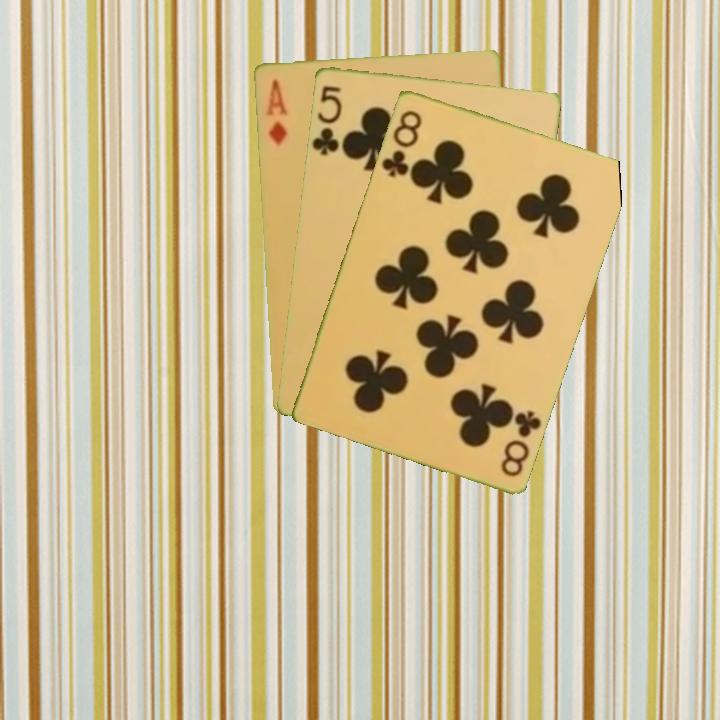5c: (309, 81, 346, 158)
8c: (377, 106, 425, 180), (497, 406, 544, 480)
Ad: (261, 75, 290, 149)
